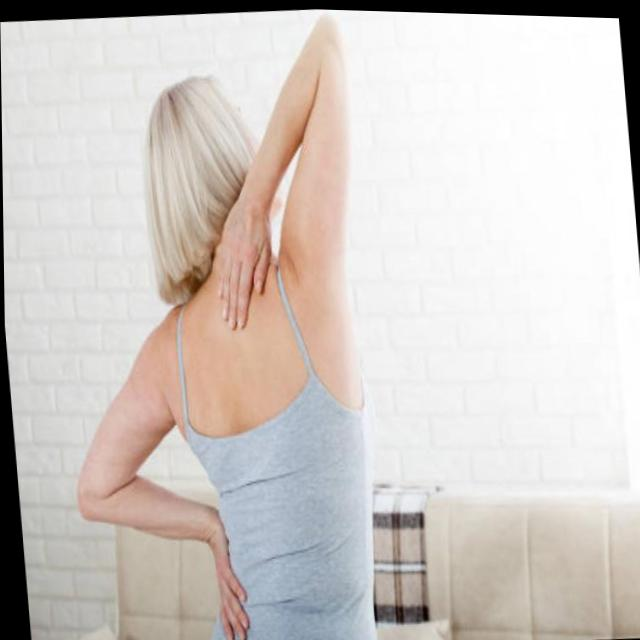no helmet: (111, 65, 309, 315)
